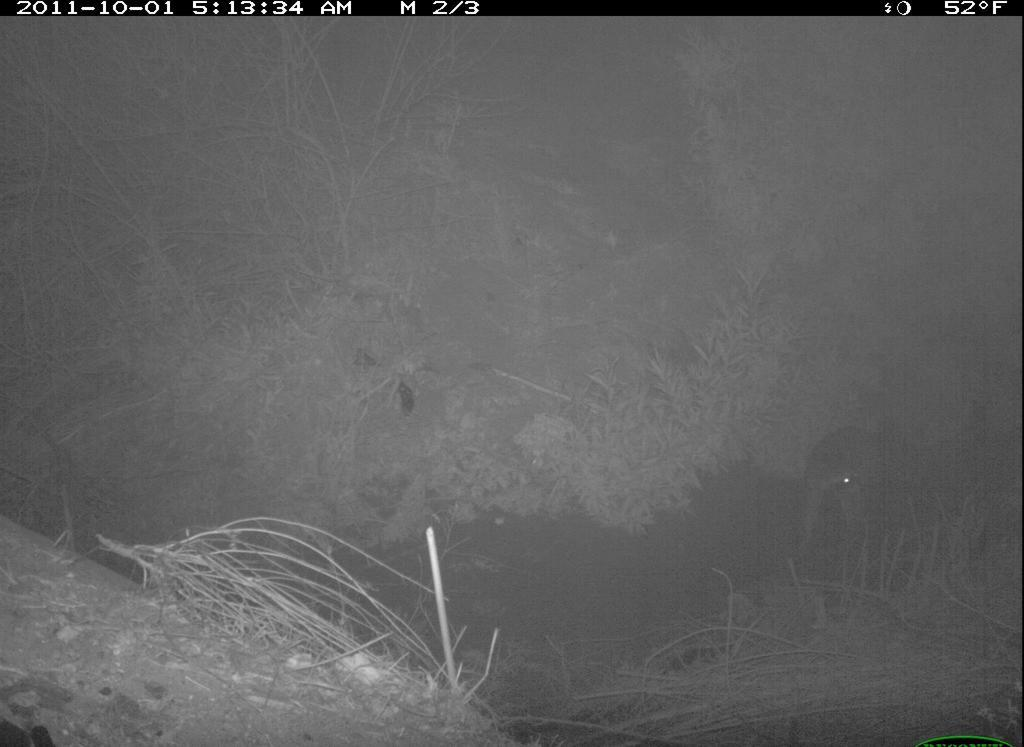raccoon: (783, 404, 923, 570)
